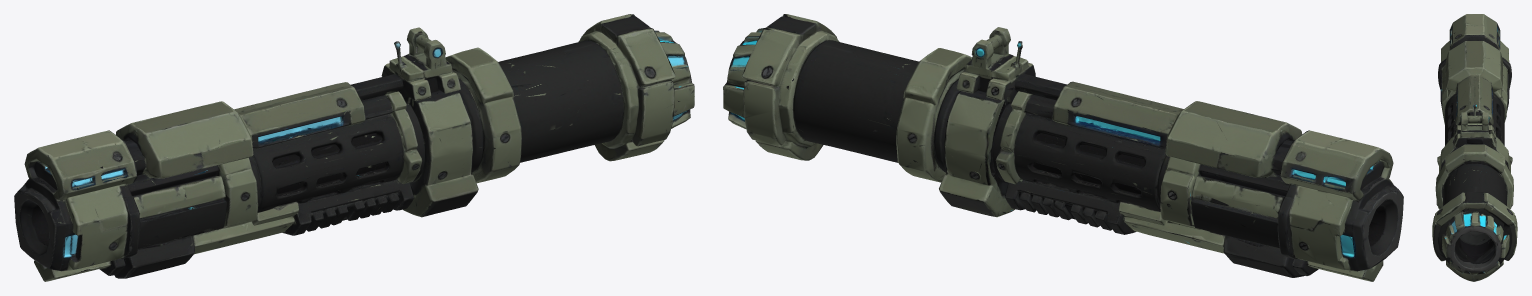
The model's file is pistol_cannon.glb.
3 renders of one model, left to right at view 1: azimuth 30°, elevation 25°; view 2: azimuth 150°, elevation 25°; view 3: azimuth 270°, elevation 25°, orthographic. The views are drawn at different scales.
Bounding box in the file's own units: 1.9 × 0.4837 × 0.3552.
1 material, 1 textured.
